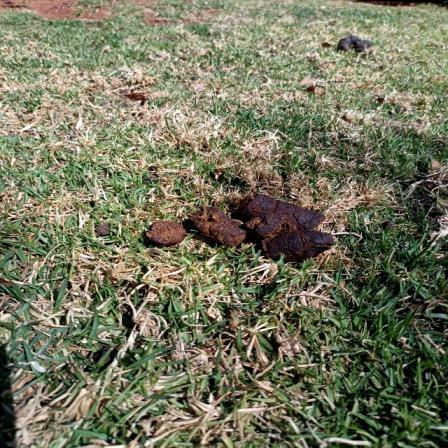dog-poop: (146, 188, 340, 273), (333, 32, 379, 58)
